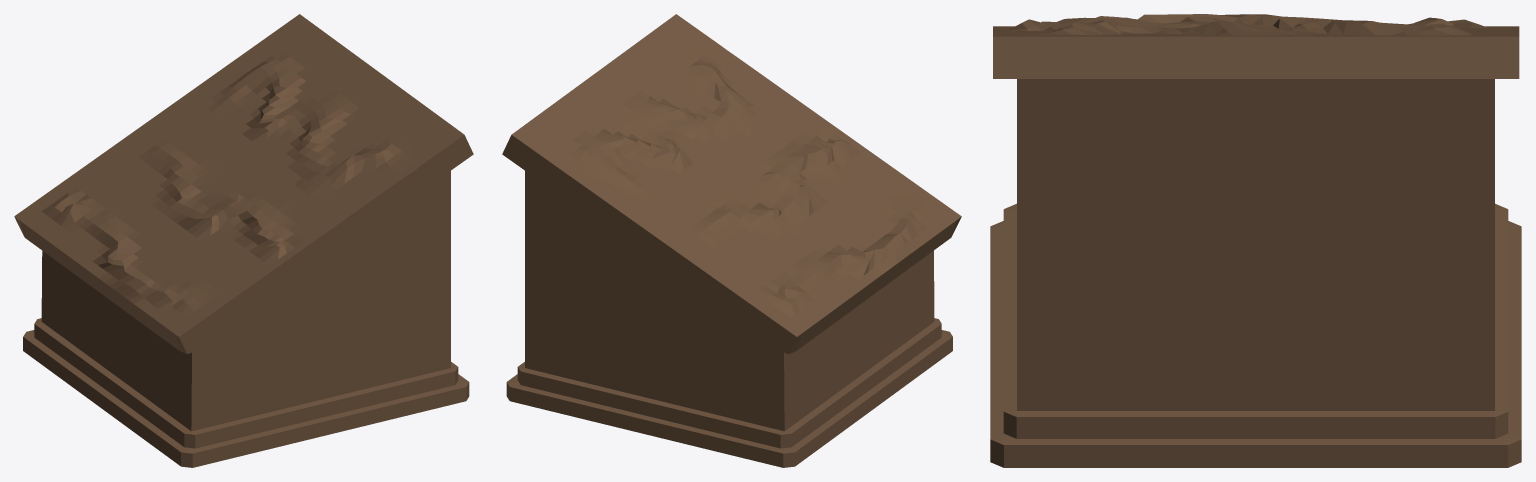
Rendered from Riddle.fbx.
The picture shows the model from 3 angles, left to right: view 1: azimuth 30°, elevation 25°; view 2: azimuth 150°, elevation 25°; view 3: azimuth 270°, elevation 25°; orthographic projection. The views are drawn at different scales.
Parts seen in each view (by area): view 1: Riddle Plaque; view 2: Riddle Plaque; view 3: Riddle Plaque.
Part boxes in pixels (left/top/right/bottom): Riddle Plaque: left=14, top=14, right=473, bottom=467; Riddle Plaque: left=502, top=14, right=961, bottom=467; Riddle Plaque: left=990, top=14, right=1521, bottom=467.
Bounding box in the file's own units: 205 × 177 × 200.
